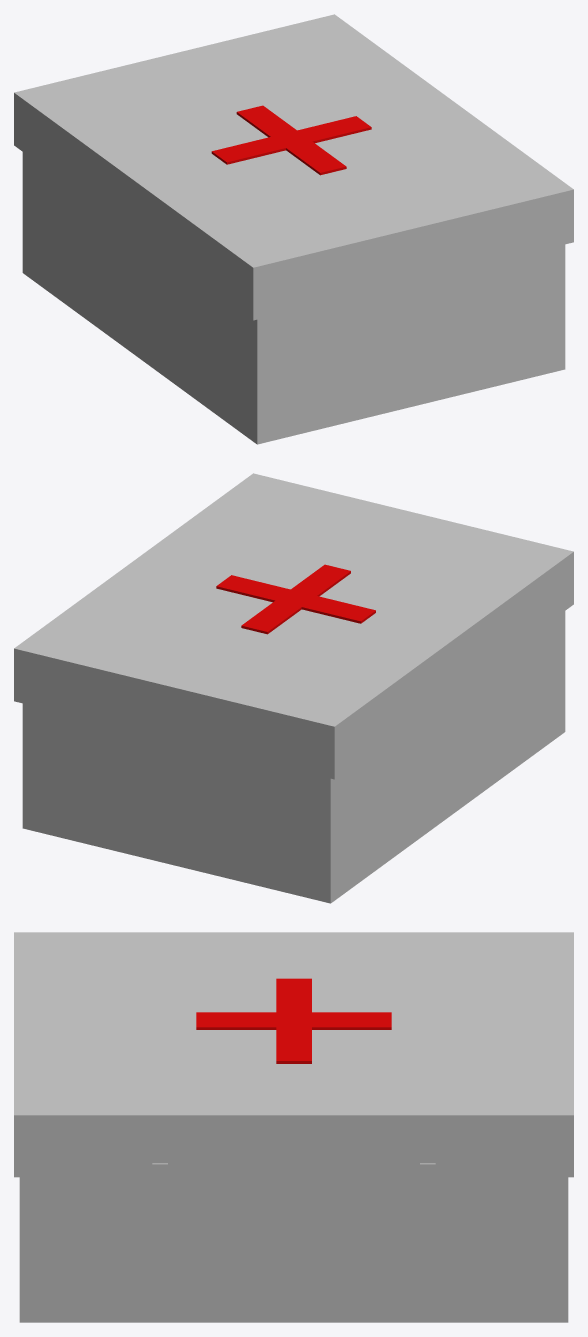
Rendered from Health.fbx.
3 renders of one model, top to bottom at view 1: azimuth 30°, elevation 25°; view 2: azimuth 150°, elevation 25°; view 3: azimuth 270°, elevation 25°, orthographic. The views are drawn at different scales.
Visible parts, largest first — view 1: Cube, Plane; view 2: Cube, Plane; view 3: Cube, Plane.
Boxes of the visible parts, left/top/right/bottom form: Cube: left=14, top=14, right=573, bottom=444; Plane: left=211, top=105, right=371, bottom=175; Cube: left=14, top=473, right=573, bottom=903; Plane: left=216, top=564, right=375, bottom=634; Cube: left=14, top=932, right=573, bottom=1322; Plane: left=196, top=978, right=391, bottom=1063.
Bounding box in the file's own units: 209 × 113 × 269.
